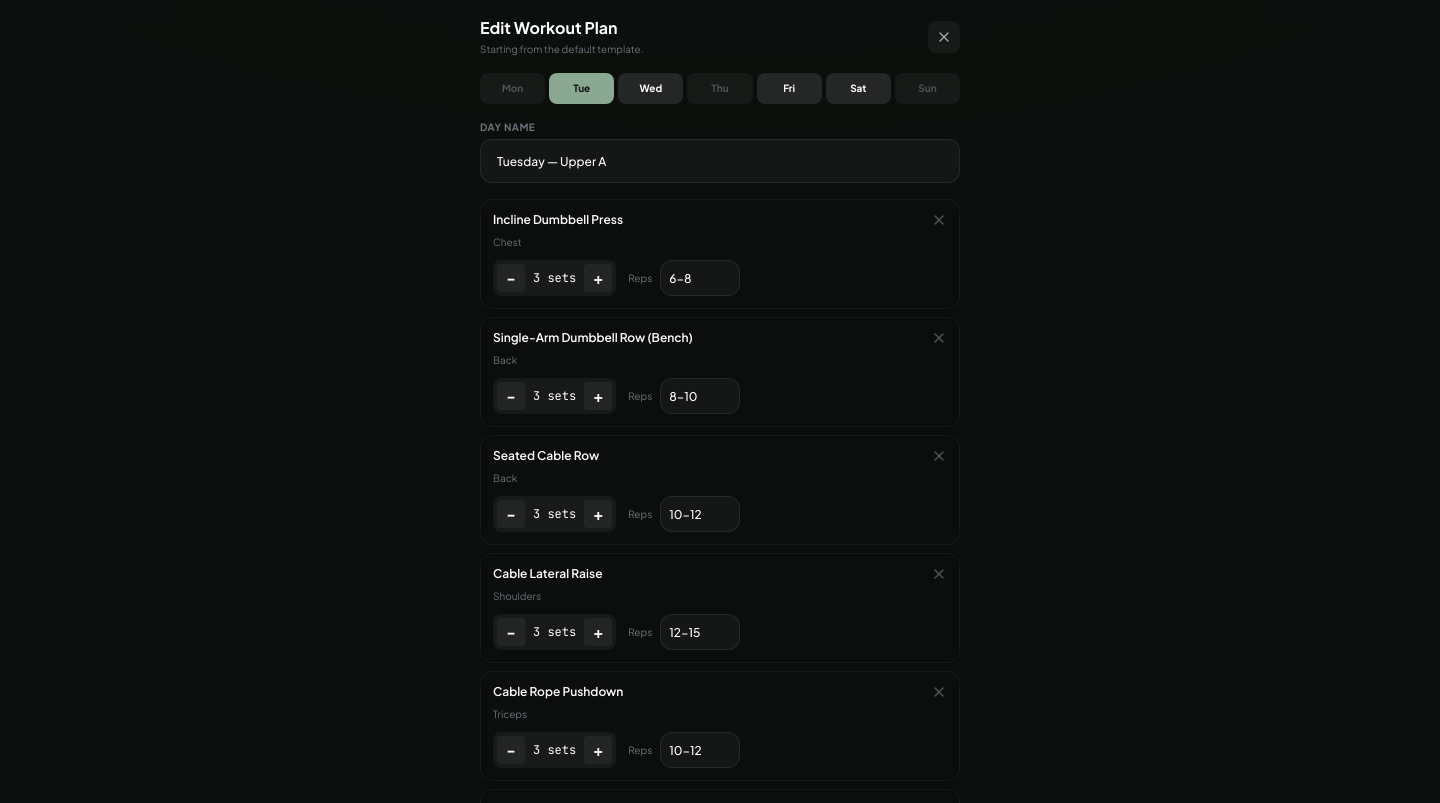
Scenario: Workout plan builder › keeps the builder open and shows the problem if saving fails
Click the button "Tue".
click(582, 88)  # box [549,73,614,104]
(page scrolled)
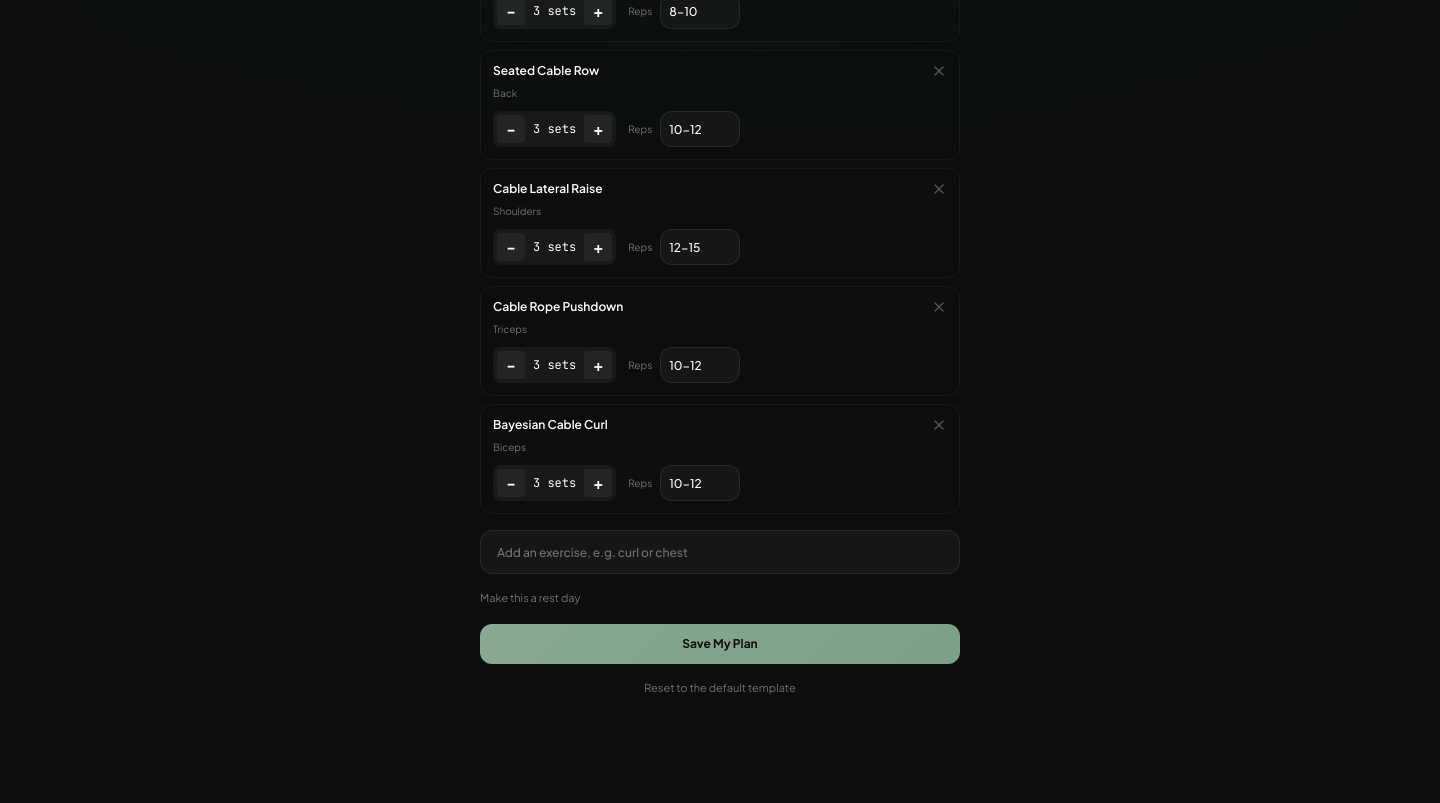
Click the button "Save My Plan".
click(720, 644)  # box [480,624,960,664]
(page scrolled)
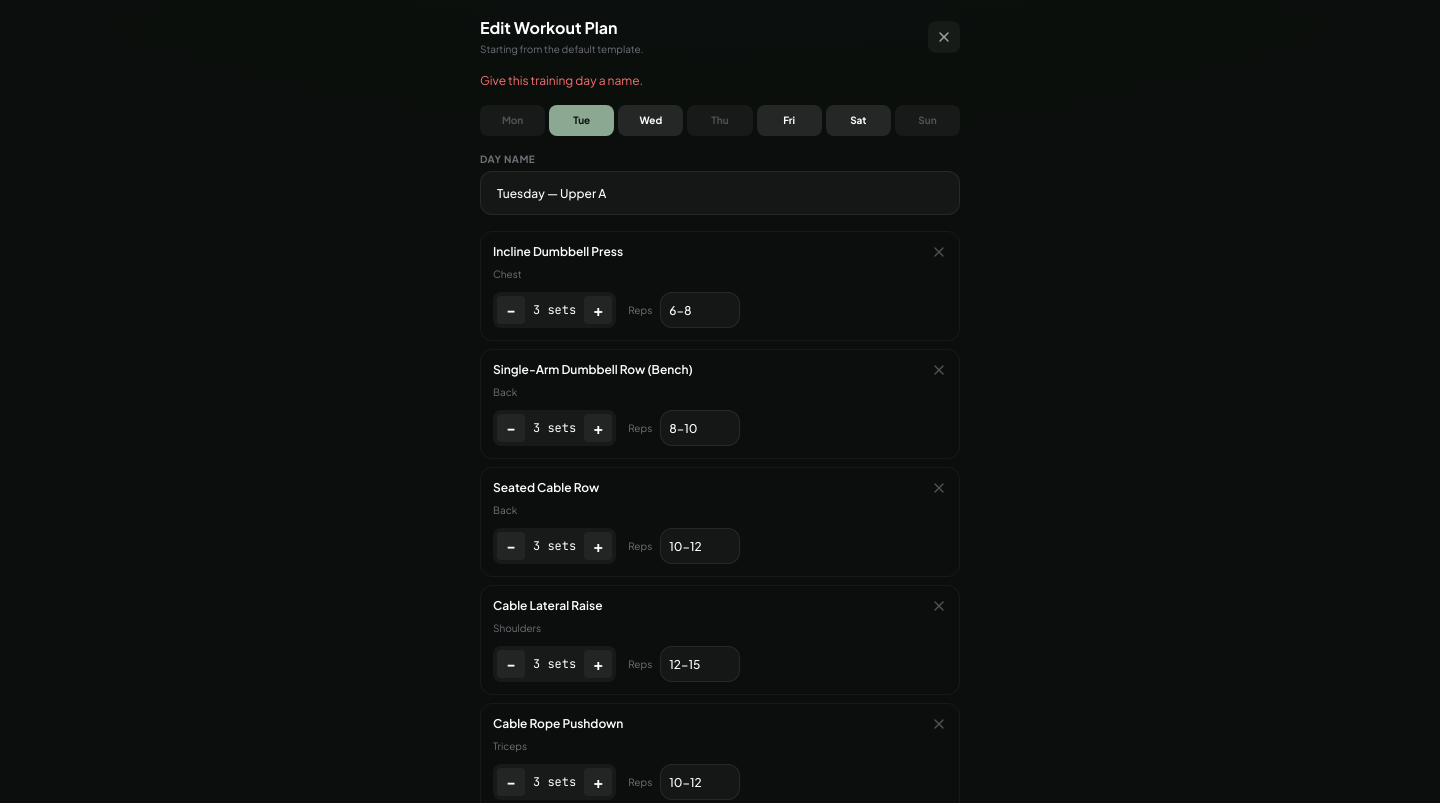
Expected: the text "Give this training day a name." is shown, [480,73,643,88]
